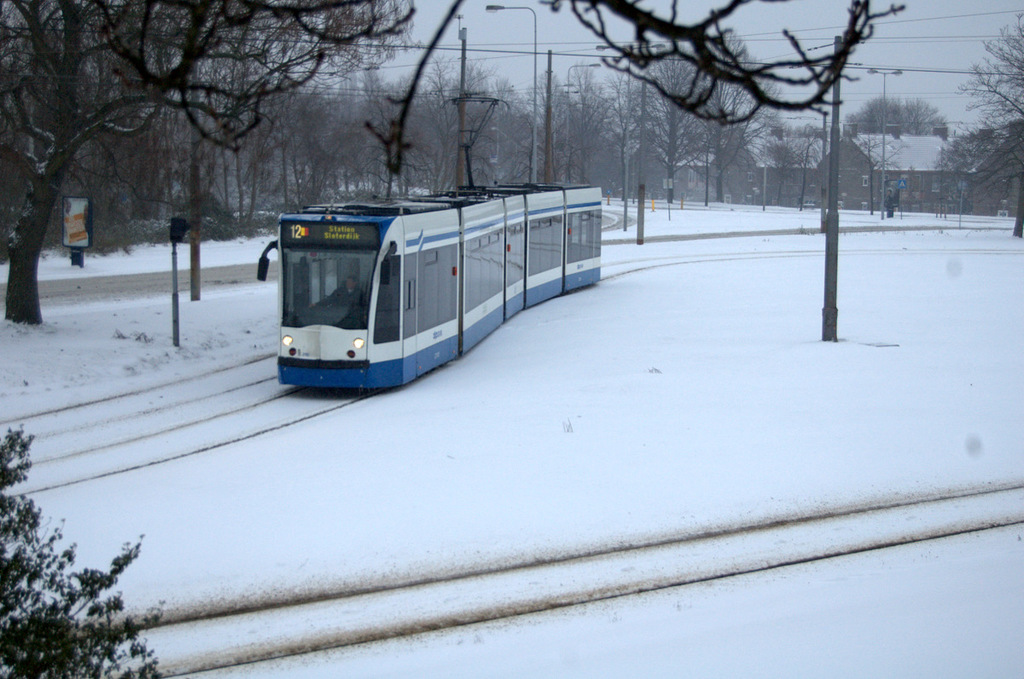train: (255, 92, 604, 388)
